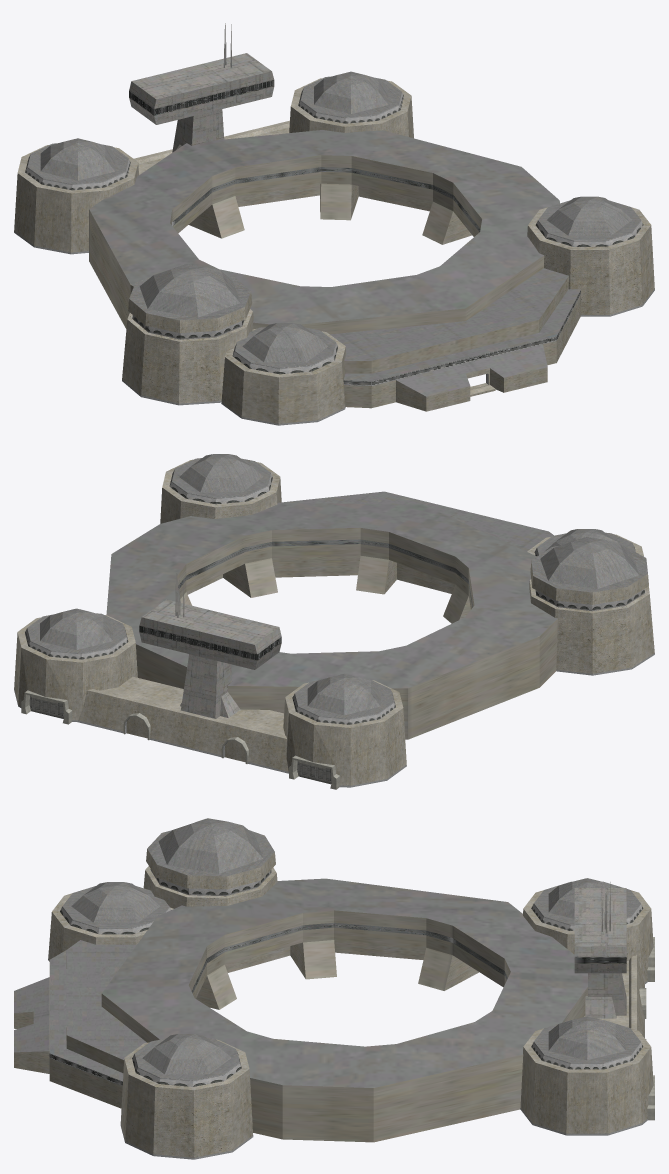
File: mun_all_starport_s01_u01_r0_mesh_l2.fbx
The picture shows the model from 3 angles, top to bottom: view 1: azimuth 30°, elevation 25°; view 2: azimuth 150°, elevation 25°; view 3: azimuth 270°, elevation 25°; orthographic projection. The views are drawn at different scales.
Visible parts, largest first — view 1: mesh_node; view 2: mesh_node; view 3: mesh_node.
Boxes of the visible parts, <box> form: mesh_node: <box>14,23,654,425</box>; mesh_node: <box>14,454,654,789</box>; mesh_node: <box>14,818,654,1159</box>.
Bounding box in the file's own units: 150 × 47.84 × 160.
